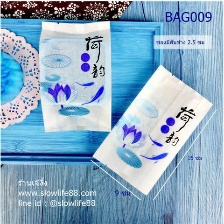snack: (87, 59, 216, 200), (34, 14, 117, 137)
